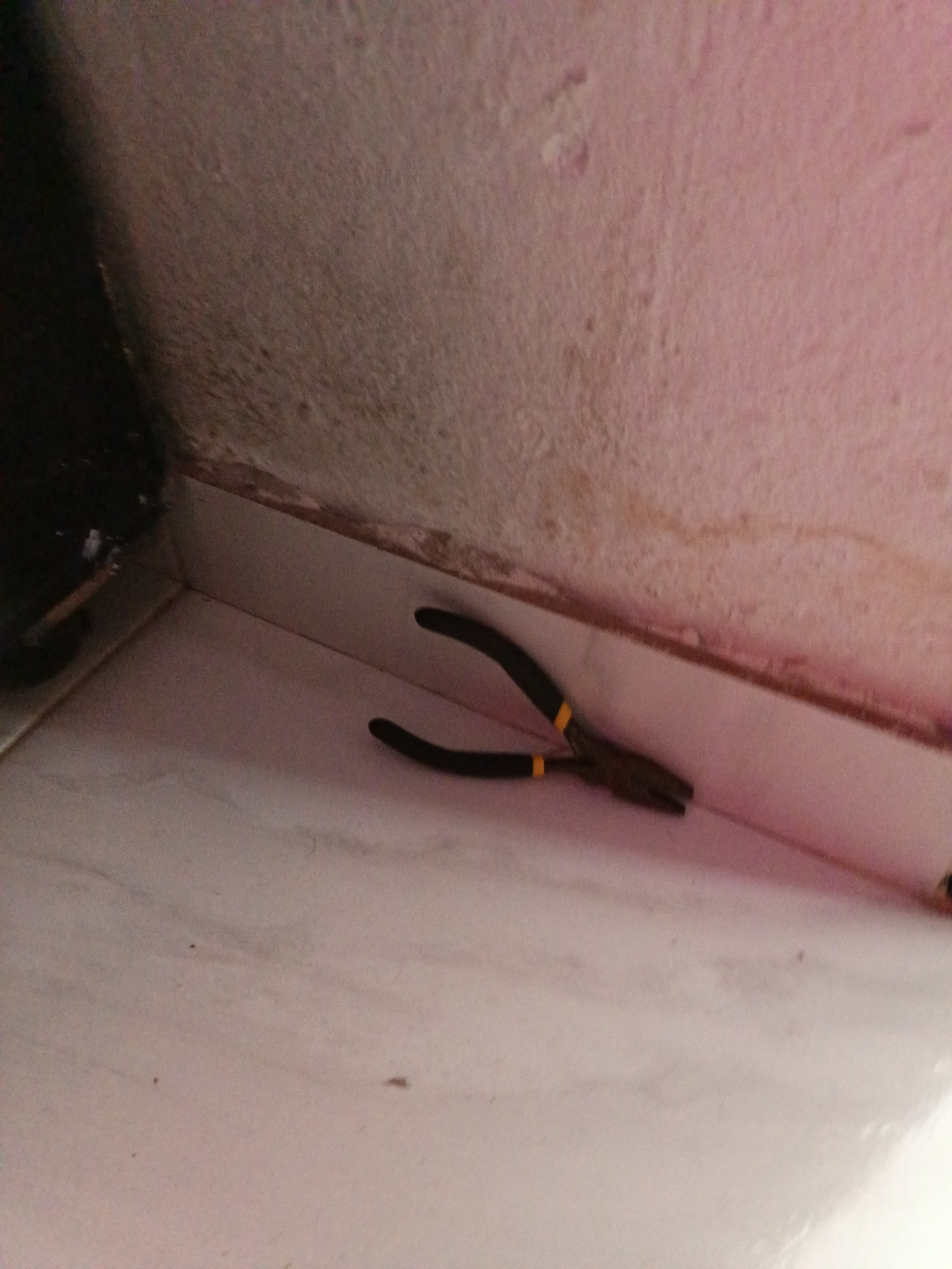Pinzas: (369, 607, 693, 815)
